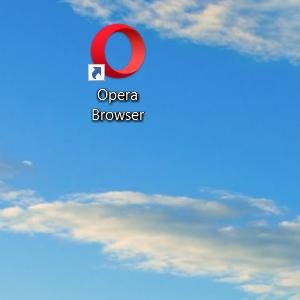opera: (87, 23, 146, 81)
